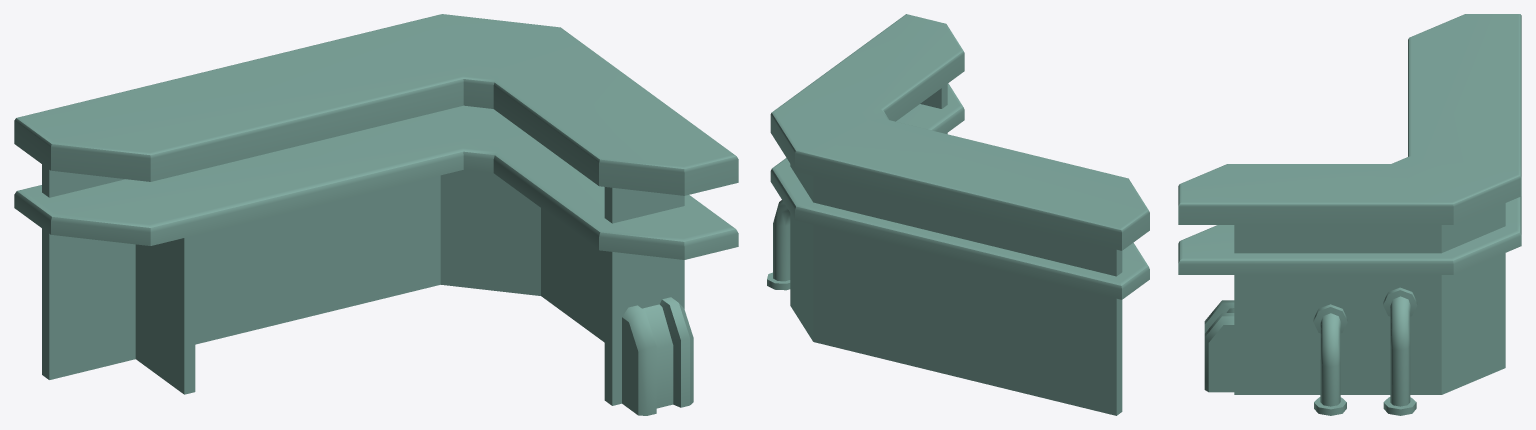
File: ATLAS_LV_DESK.fbx
The picture shows the model from 3 angles, left to right: view 1: azimuth 30°, elevation 25°; view 2: azimuth 150°, elevation 25°; view 3: azimuth 270°, elevation 25°; orthographic projection. The views are drawn at different scales.
Visible parts, largest first — view 1: LV_DESK; view 2: LV_DESK; view 3: LV_DESK.
Boxes of the visible parts, x1,y1,x2,y2 form: LV_DESK: (14,14,738,415); LV_DESK: (767,14,1149,415); LV_DESK: (1178,14,1521,415).
Bounding box in the file's own units: 195 × 88.07 × 138.
